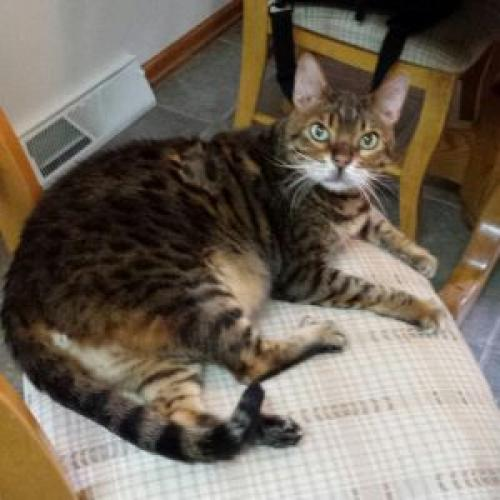bengal: (283, 45, 418, 204)
